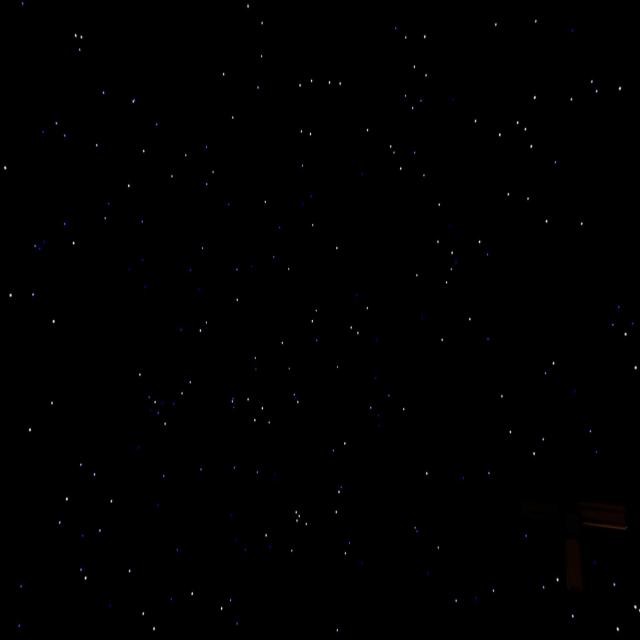medium_debris: (551, 486, 631, 598)
